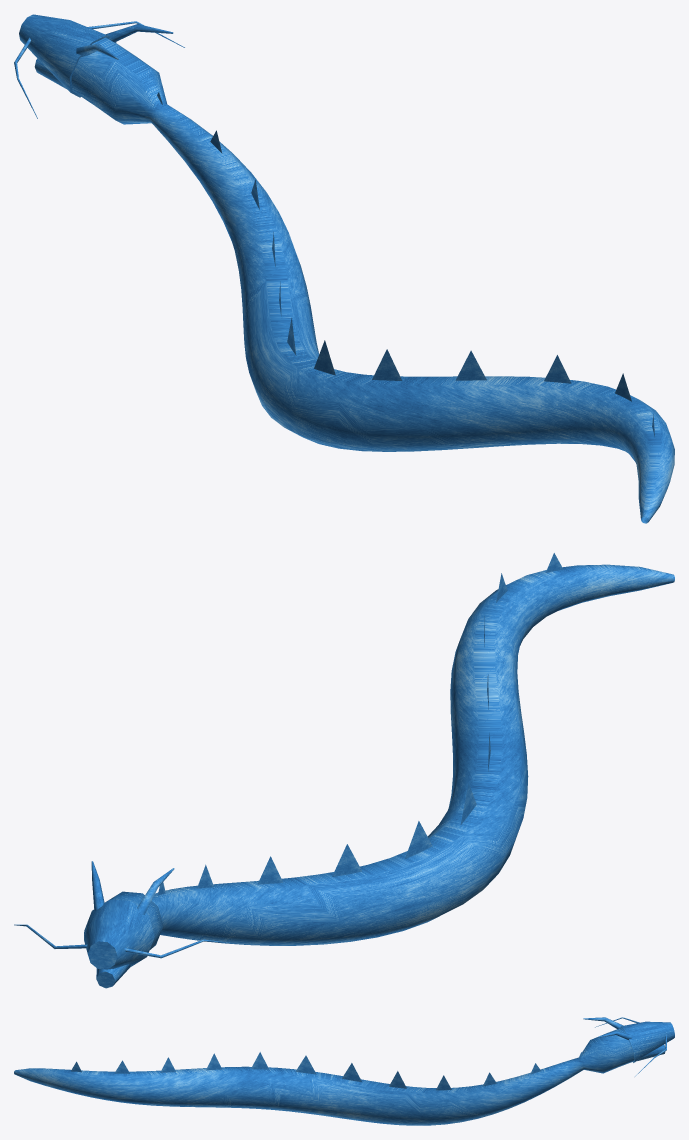
File: HO_VFX_WaterDragon.fbx
The picture shows the model from 3 angles, top to bottom: view 1: azimuth 30°, elevation 25°; view 2: azimuth 150°, elevation 25°; view 3: azimuth 270°, elevation 25°; orthographic projection. The views are drawn at different scales.
Visible parts, largest first — view 1: HO_VFX_WaterDragon; view 2: HO_VFX_WaterDragon; view 3: HO_VFX_WaterDragon.
Part boxes in pixels (x1,y1,x2,y2): HO_VFX_WaterDragon: (14,14,674,523); HO_VFX_WaterDragon: (14,553,674,988); HO_VFX_WaterDragon: (14,1017,674,1125).
Size of the model in its own units: 7.98 by 7.82 by 43.22.
